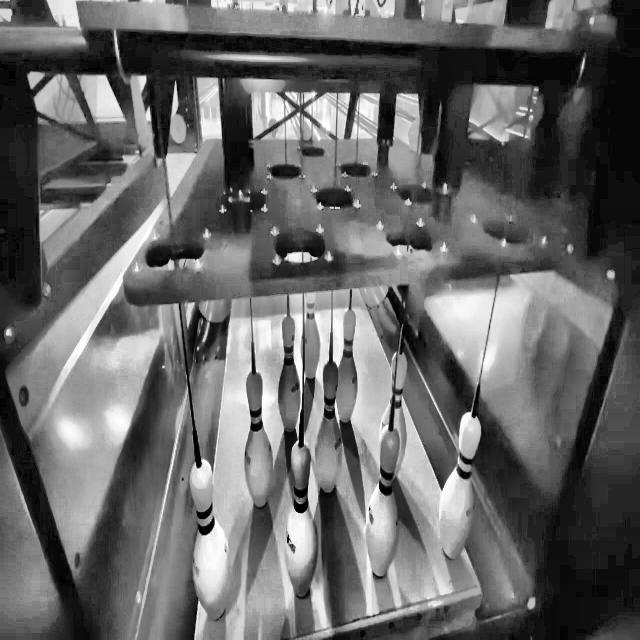bowling-pins: (440, 412, 482, 559), (190, 459, 228, 620), (366, 427, 400, 577), (286, 443, 318, 598), (244, 372, 273, 508), (316, 361, 342, 493), (278, 312, 300, 433), (336, 308, 358, 423), (387, 350, 407, 476), (305, 292, 320, 379)
